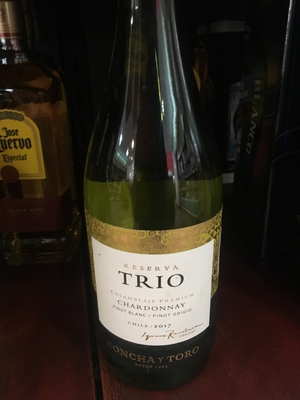trio chardonnay: (78, 12, 231, 386)
